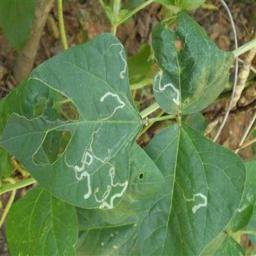liriomyza: (62, 122, 129, 212), (152, 67, 181, 105), (108, 42, 128, 80), (99, 91, 125, 120), (181, 192, 208, 214)
